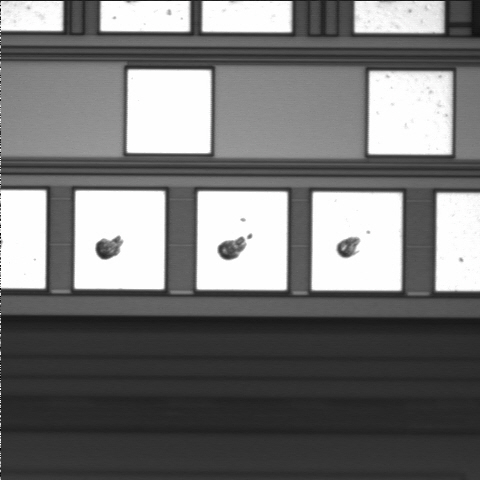pad: (197, 191, 287, 290), (312, 192, 402, 291), (75, 191, 165, 289), (127, 70, 211, 153), (369, 71, 452, 154)
